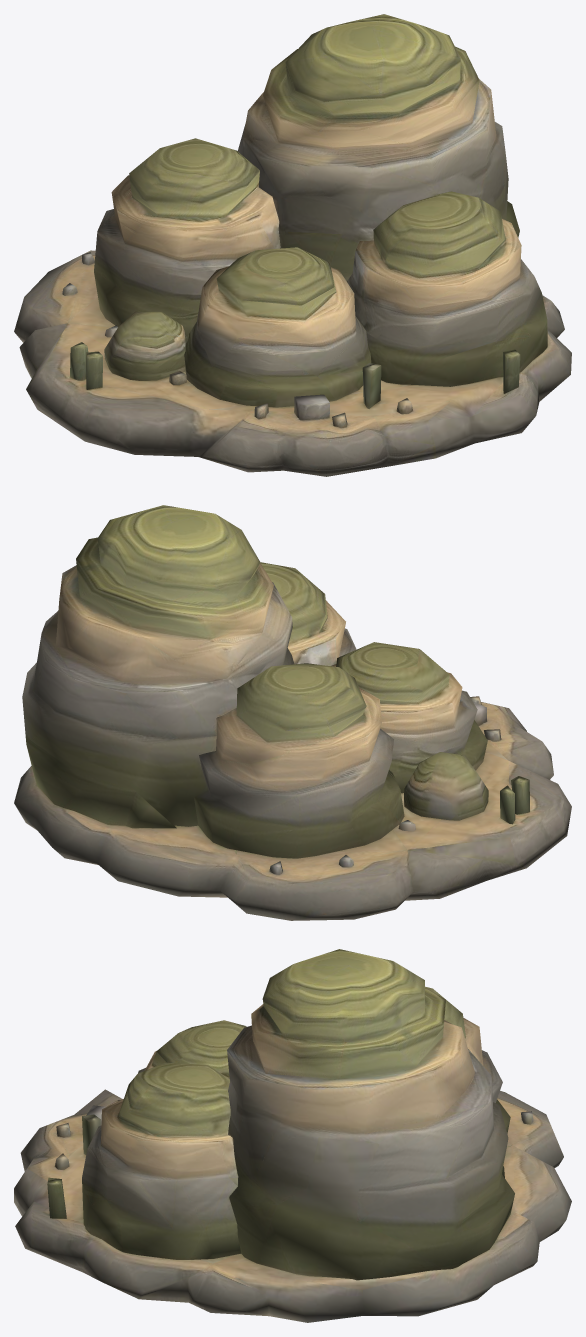
Rendered from Terraced_Stone_Mounds.glb.
3 views of the same model, one above another, from view 1: azimuth 30°, elevation 25°; view 2: azimuth 150°, elevation 25°; view 3: azimuth 270°, elevation 25° (orthographic). The views are drawn at different scales.
Parts seen in each view (by area): view 1: mesh_node; view 2: mesh_node; view 3: mesh_node.
Part boxes in pixels (x1,y1,x2,y2): mesh_node: (14,14,571,476); mesh_node: (14,505,571,920); mesh_node: (14,949,571,1322).
Size of the model in its own units: 1 by 0.5801 by 0.9785.
Materials: 1 (1 with a texture image).
